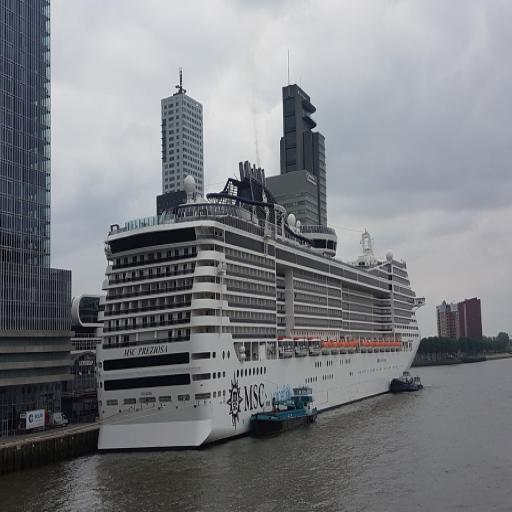cruises: (90, 157, 428, 458)
